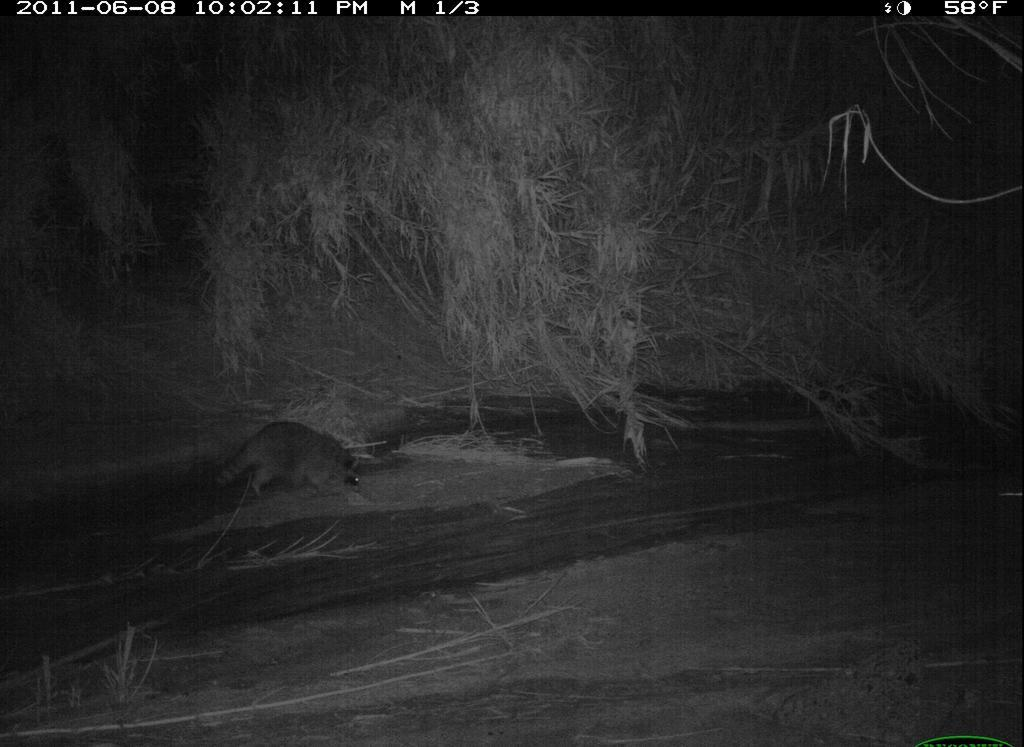raccoon: (201, 414, 377, 509)
